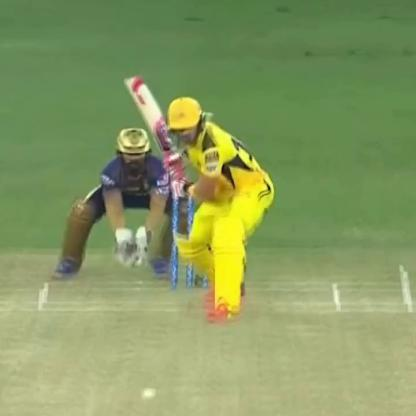ball: (136, 387, 158, 403)
bat: (121, 65, 185, 178)
pitch: (6, 268, 416, 416)
